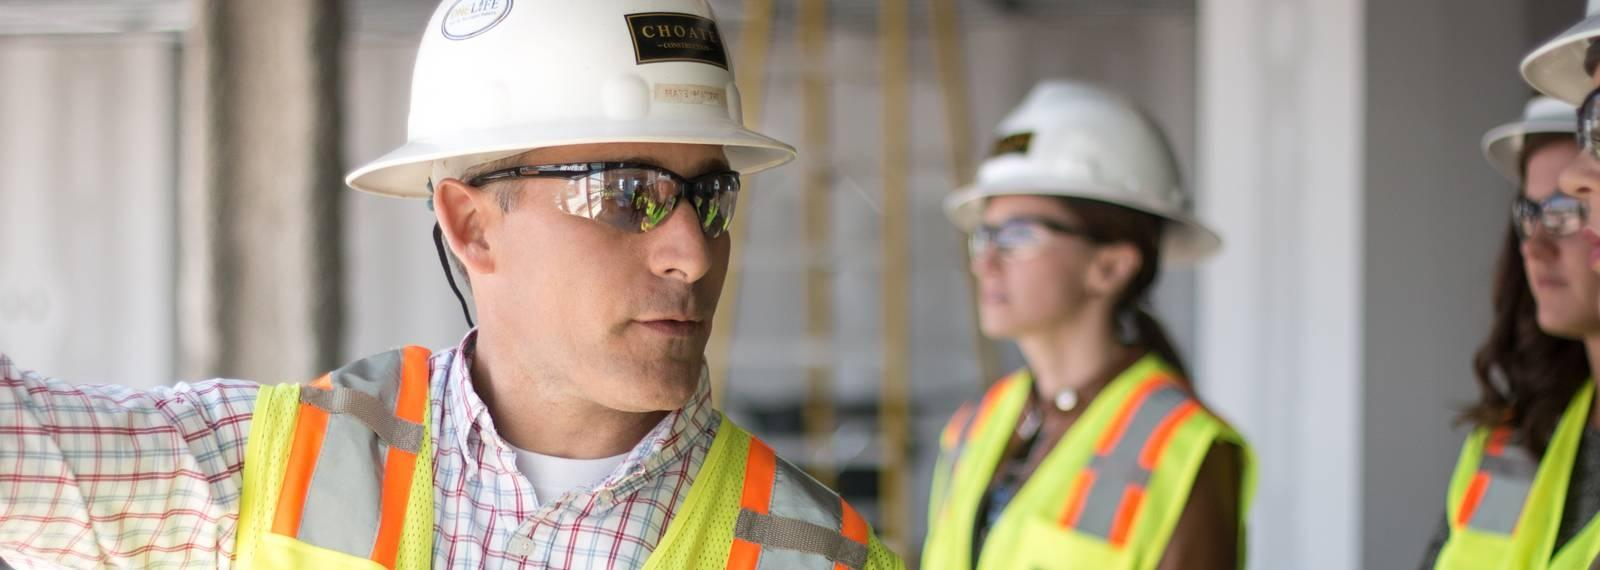helmet: (336, 0, 802, 202), (937, 72, 1227, 265), (1476, 87, 1583, 176), (1512, 0, 1600, 109)
wear: (227, 392, 892, 570), (917, 369, 1246, 570), (1518, 376, 1600, 570), (1451, 390, 1540, 566)
